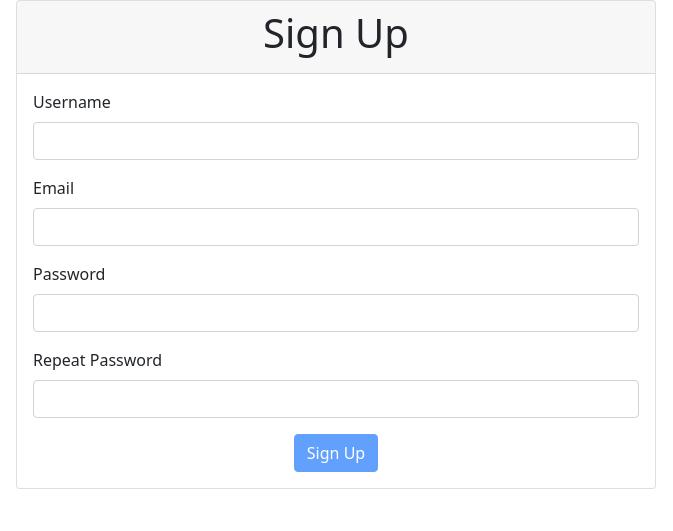
Test: The signup page › Interactions › displays Email cannot be null for email
Type "user1" into the field labelled "Username".
click(336, 141); type("user1")  # box [33,122,639,160]
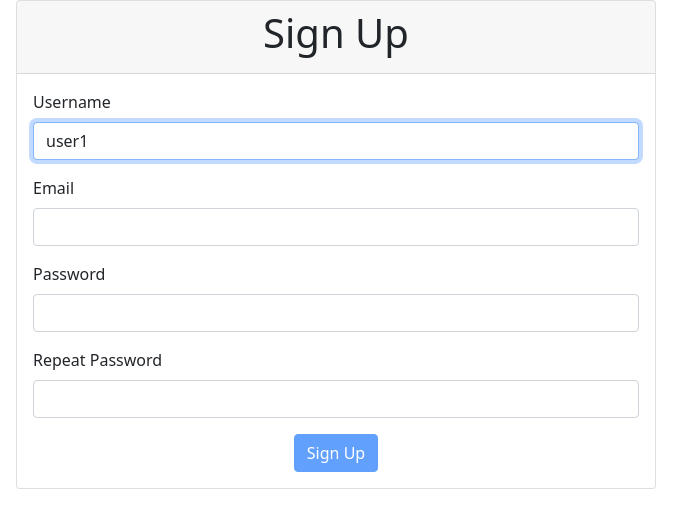
Type "user1@mail.com" into the field labelled "Email".
click(336, 227); type("user1@mail.com")  # box [33,208,639,246]
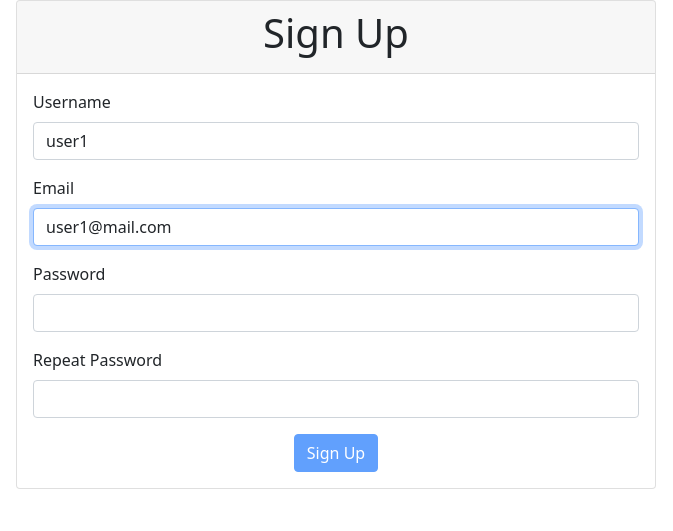
Type "P4ssword" into the password field labelled "Password".
click(336, 313); type("P4ssword")  # box [33,294,639,332]
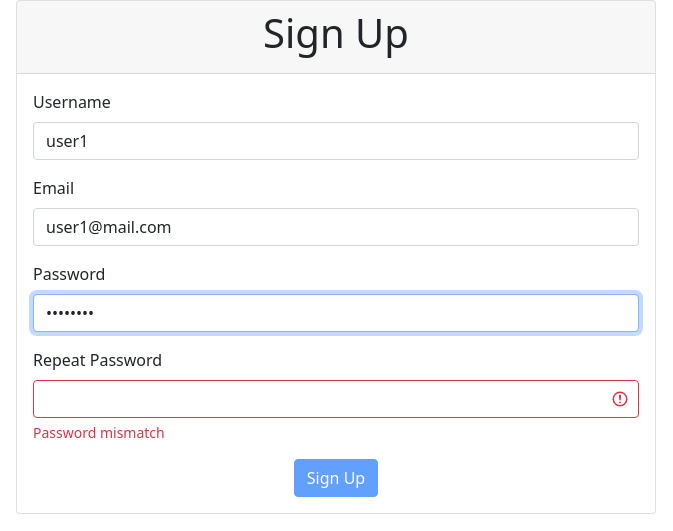
Type "P4ssword" into the password field labelled "Repeat Password".
click(336, 399); type("P4ssword")  # box [33,380,639,418]
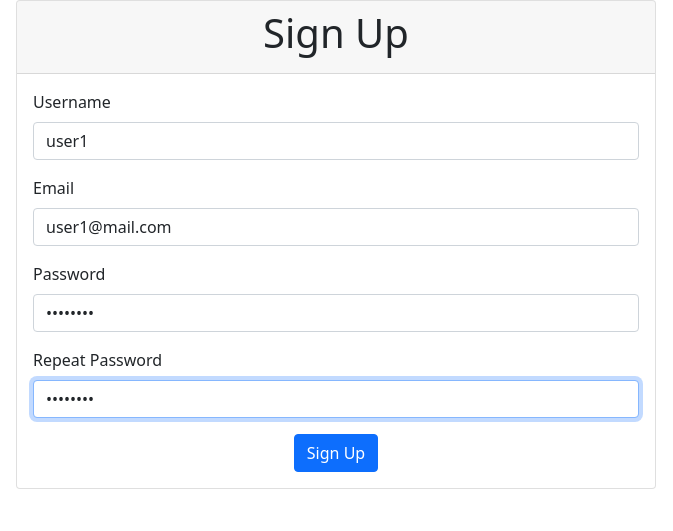
Click the button "Sign Up".
click(336, 453)  # box [294,434,378,472]
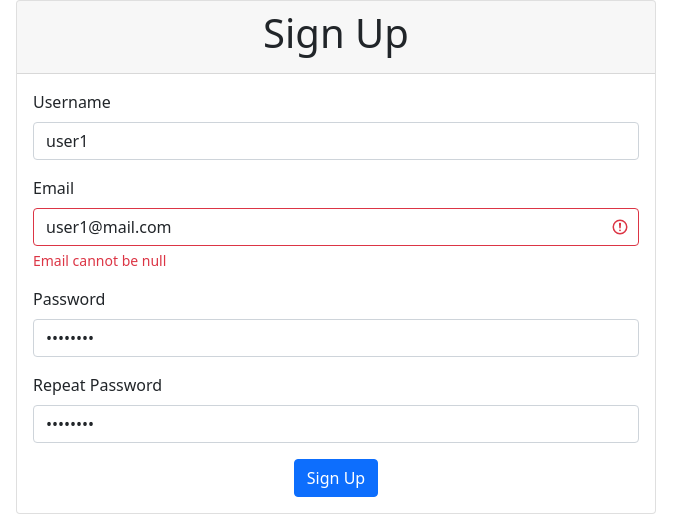
Expected: the text "Email cannot be null" is shown, [33,251,166,270]
